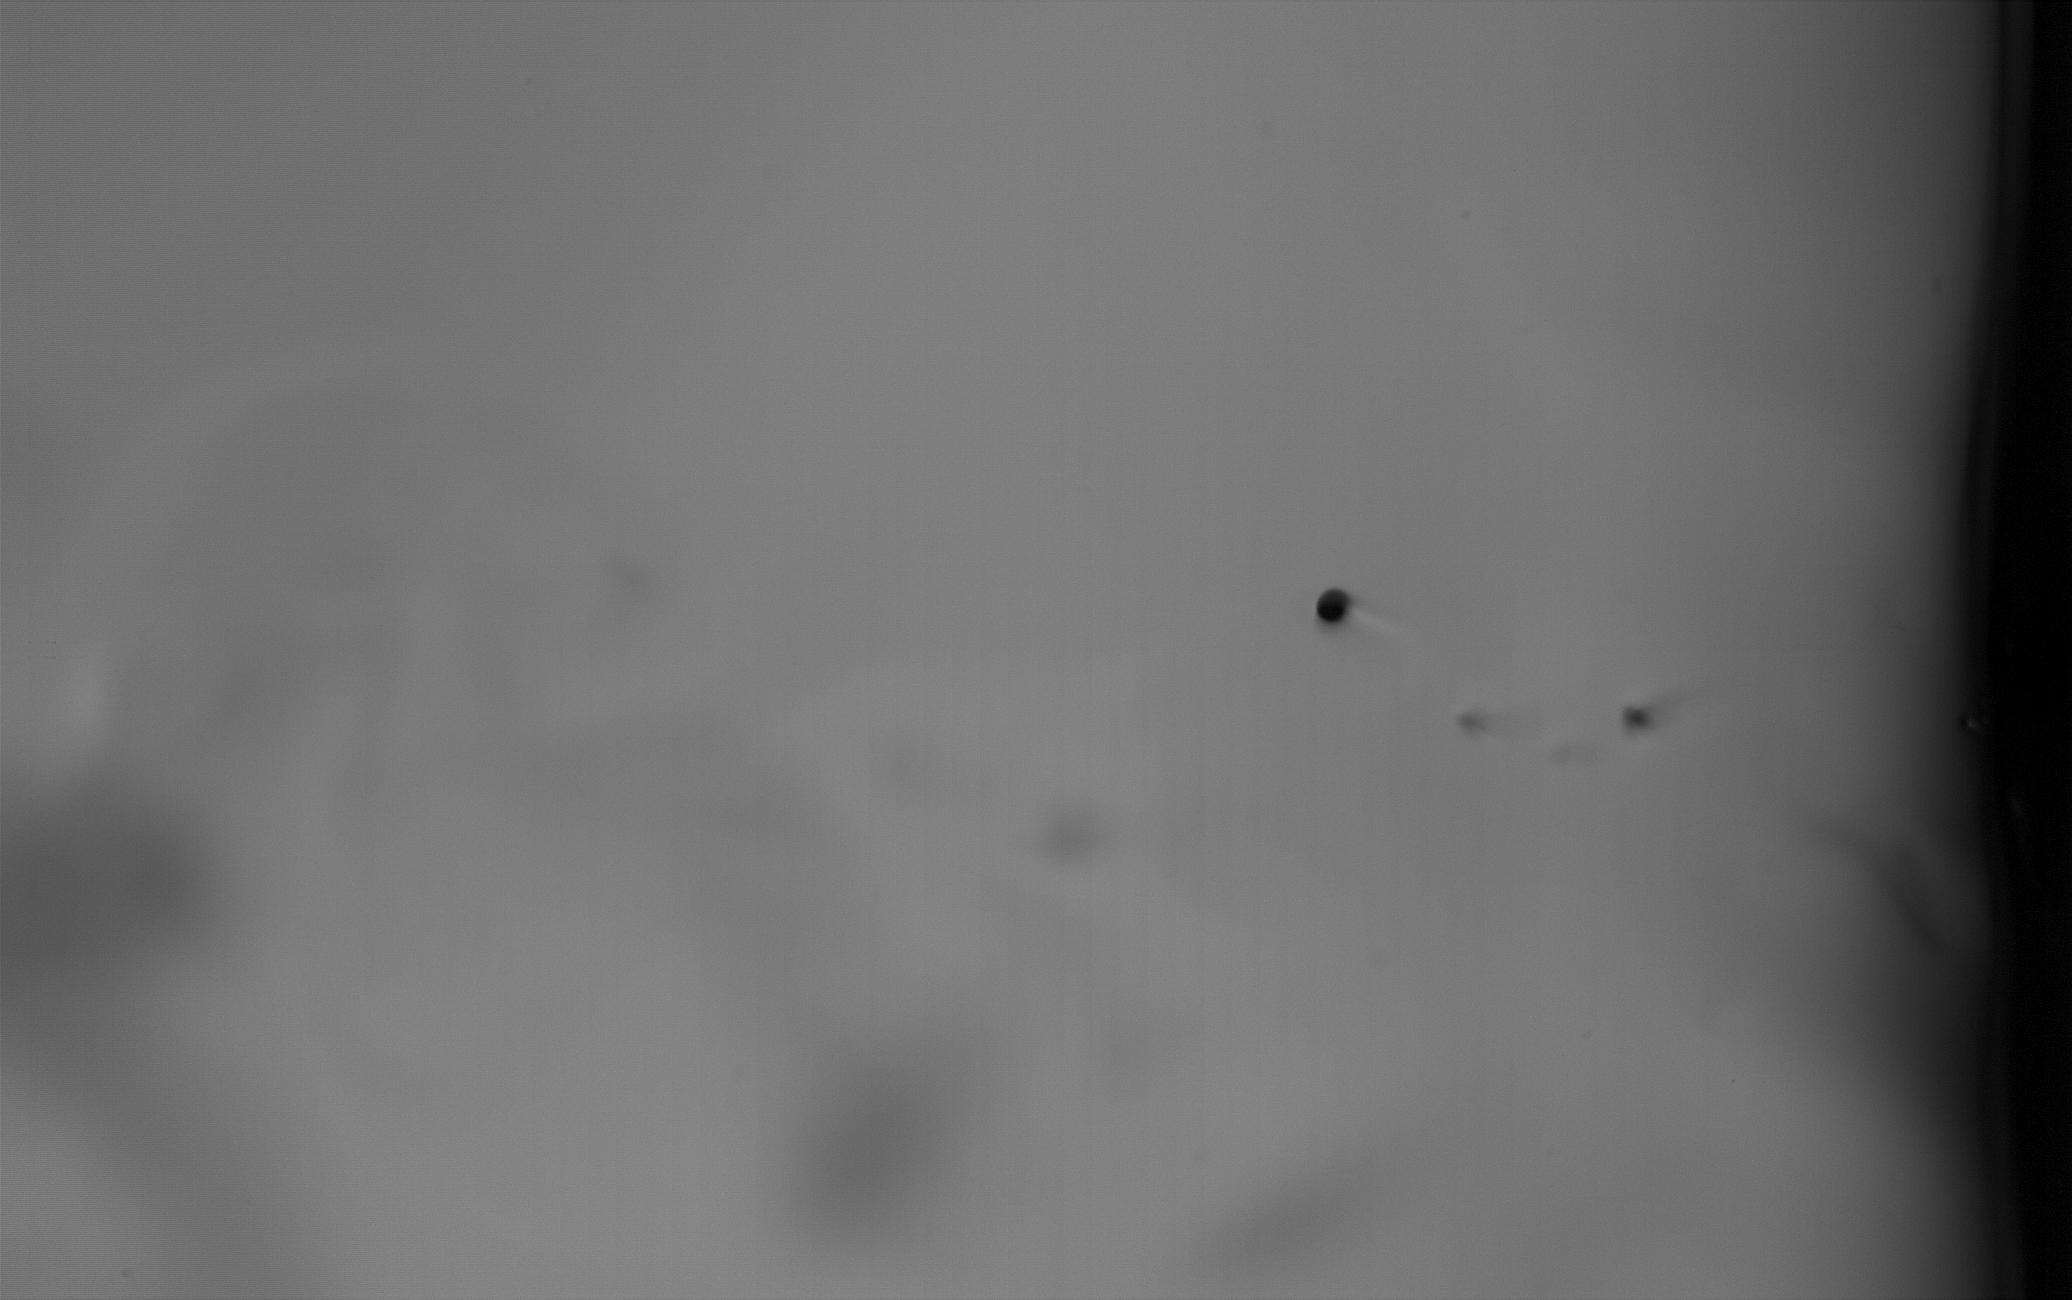Blurry: (1036, 803, 1108, 866), (576, 554, 665, 602), (1542, 737, 1597, 768)
ClassicalEvaporation: (1623, 681, 1674, 735), (1308, 583, 1356, 625)
TransitionalMixing: (1451, 707, 1541, 740)
